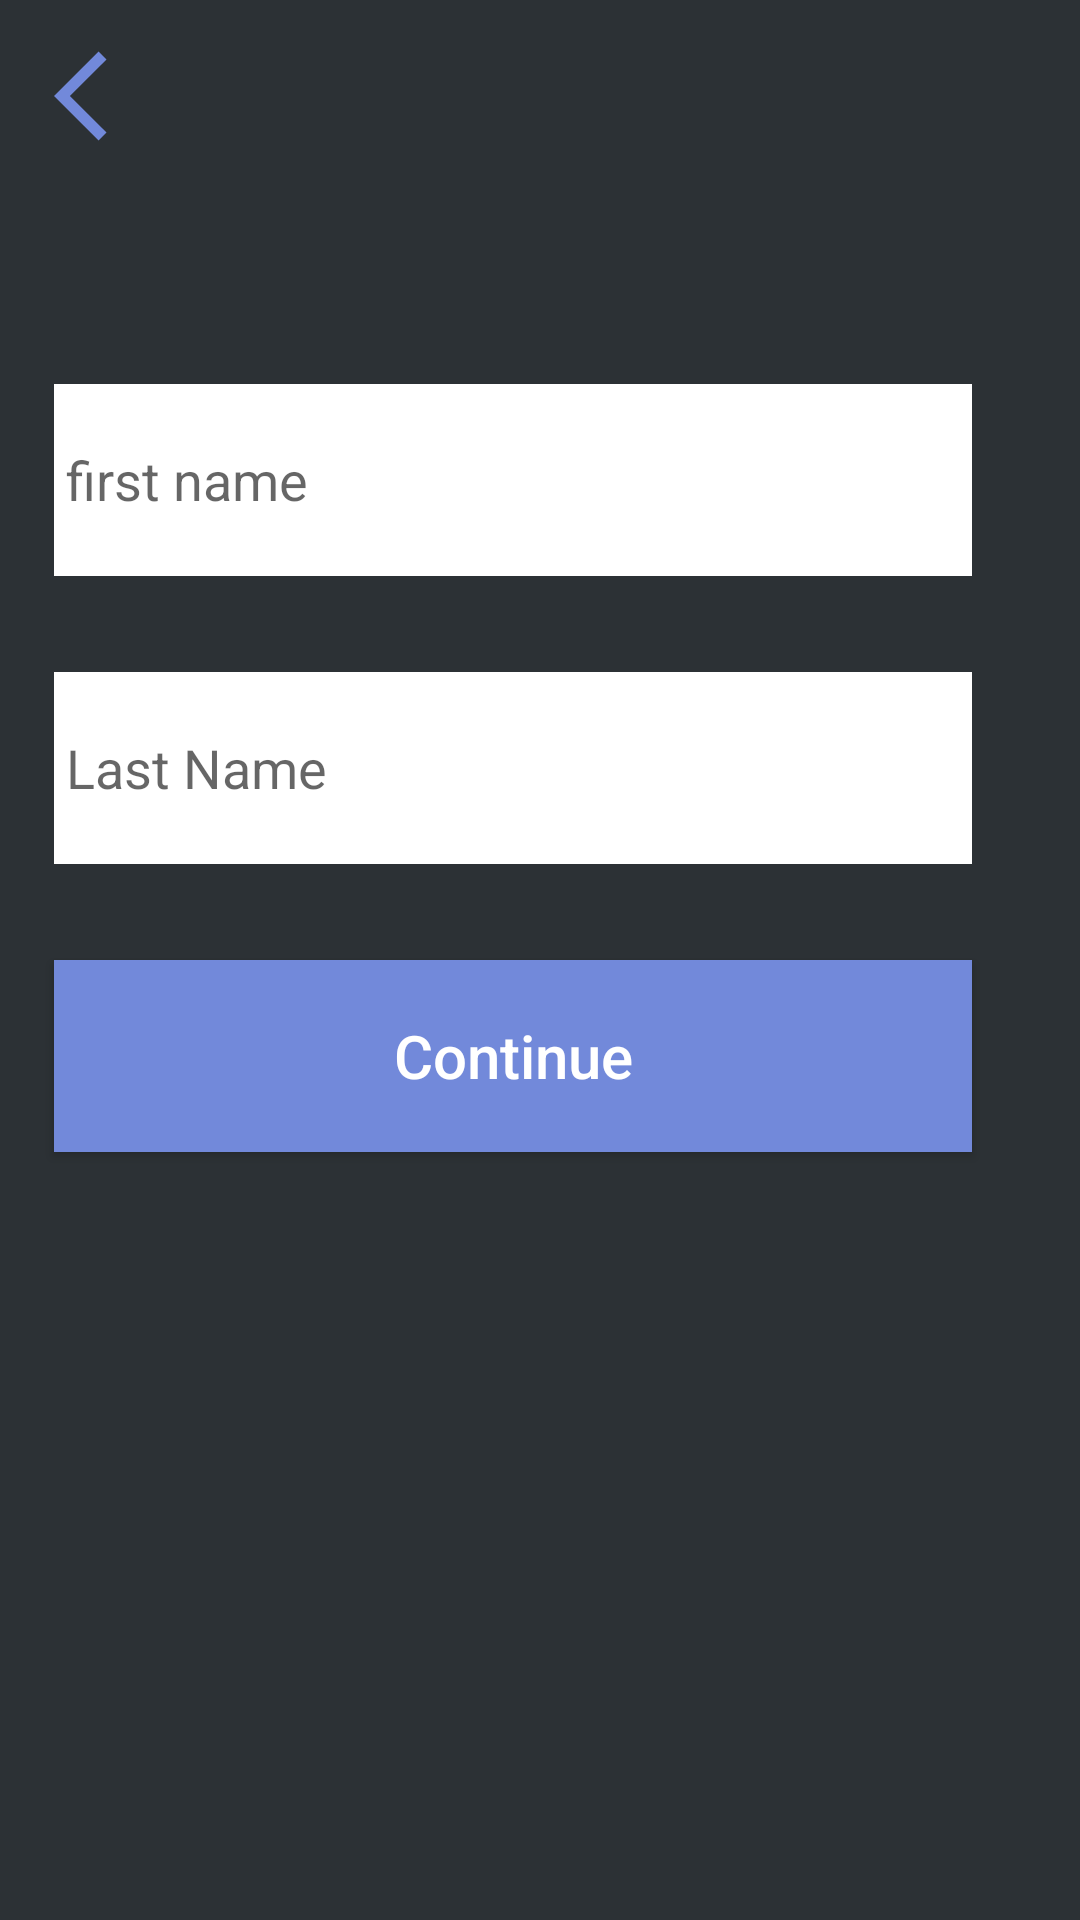

Point at icon controls on the screen. Image size 1080x1920, points as (x,y).
arrow back: (80,96)
